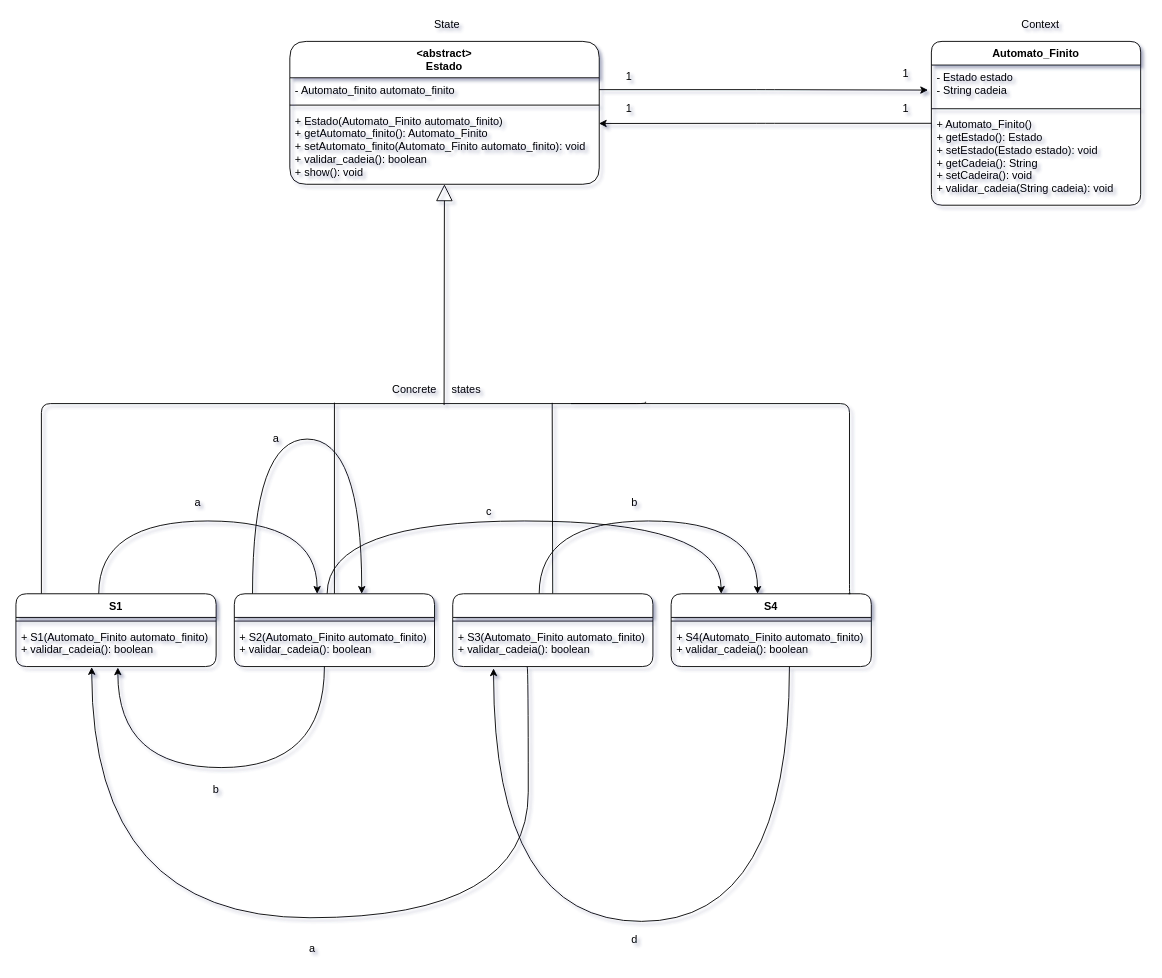
This 1162x978 diagram has some shape labels left out. Here are the shapes that lost their labels. From the top down, the box of each, then its label:
(233, 593, 435, 667): S2
(452, 593, 653, 667): S3
